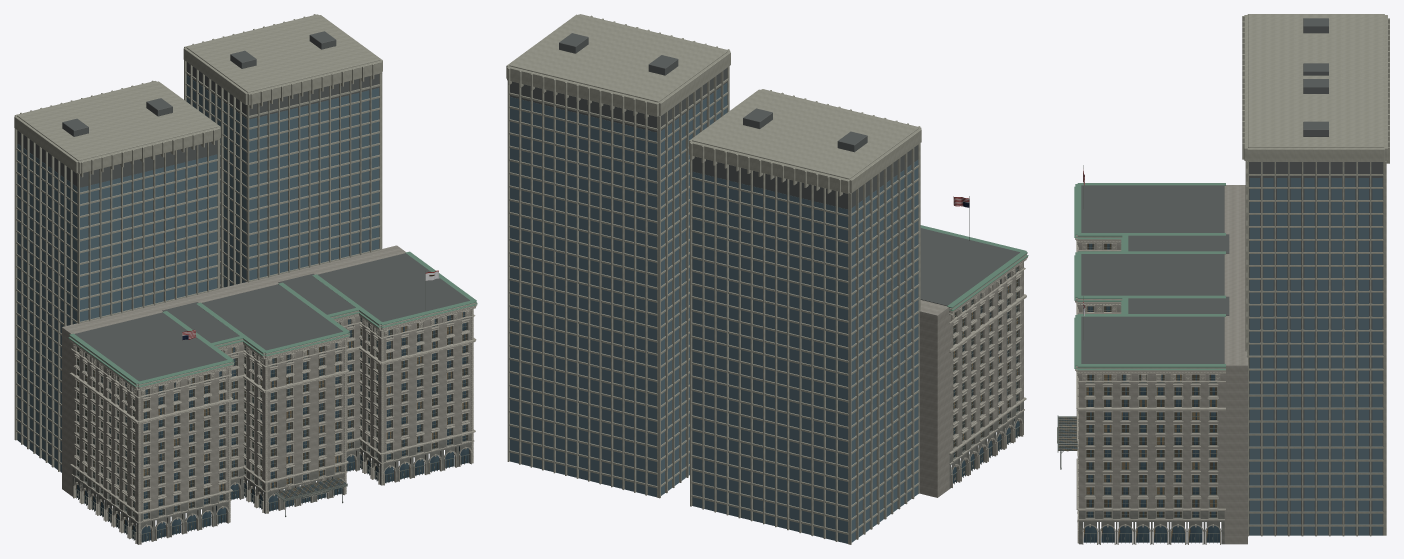
The model's file is westin.glb.
The picture shows the model from 3 angles, left to right: view 1: azimuth 30°, elevation 25°; view 2: azimuth 150°, elevation 25°; view 3: azimuth 270°, elevation 25°; orthographic projection. The views are drawn at different scales.
Visible parts, largest first — view 1: westin_towers / Westin / Pereira tower concrete, westin_towers / Westin / dark tower glazing, westin_historic / Westin / gray rusticated sandstone, westin_historic / Westin / carved limestone edges, westin_historic / Westin / roof and shadow wells, westin_historic / Westin / recessed reflected windows, westin_historic / Westin / patinated architectural bronze, westin_towers / Westin / roof and shadow wells, westin_historic / Westin / granite ground storey, westin_historic / Westin / oxidized copper crown; view 2: westin_towers / Westin / dark tower glazing, westin_towers / Westin / Pereira tower concrete, westin_towers / Westin / roof and shadow wells, westin_historic / Westin / gray rusticated sandstone, westin_historic / Westin / carved limestone edges, westin_historic / Westin / roof and shadow wells, westin_historic / Westin / patinated architectural bronze, westin_historic / Westin / recessed reflected windows, westin_historic / Westin / granite ground storey, westin_historic / Westin / oxidized copper crown; view 3: westin_towers / Westin / Pereira tower concrete, westin_towers / Westin / dark tower glazing, westin_historic / Westin / roof and shadow wells, westin_historic / Westin / gray rusticated sandstone, westin_towers / Westin / roof and shadow wells, westin_historic / Westin / carved limestone edges, westin_historic / Westin / recessed reflected windows, westin_historic / Westin / oxidized copper crown, westin_historic / Westin / patinated architectural bronze, westin_historic / Westin / granite ground storey.
Part boxes in pixels (x1,y1,x2,y2): westin_towers / Westin / Pereira tower concrete: (14,14,382,471); westin_towers / Westin / dark tower glazing: (17,75,379,472); westin_historic / Westin / gray rusticated sandstone: (62,245,473,512); westin_historic / Westin / carved limestone edges: (68,302,477,544); westin_historic / Westin / roof and shadow wells: (75,253,469,381); westin_historic / Westin / recessed reflected windows: (76,312,469,542); westin_historic / Westin / patinated architectural bronze: (75,271,469,542); westin_towers / Westin / roof and shadow wells: (17,31,379,471); westin_historic / Westin / granite ground storey: (72,433,473,544); westin_historic / Westin / oxidized copper crown: (68,251,477,387); westin_towers / Westin / dark tower glazing: (510,83,918,543); westin_towers / Westin / Pereira tower concrete: (506,14,921,544); westin_towers / Westin / roof and shadow wells: (510,33,918,541); westin_historic / Westin / gray rusticated sandstone: (919,262,1023,497); westin_historic / Westin / carved limestone edges: (949,254,1027,487); westin_historic / Westin / roof and shadow wells: (920,228,1019,305); westin_historic / Westin / patinated architectural bronze: (953,196,1020,484); westin_historic / Westin / recessed reflected windows: (952,267,1019,483); westin_historic / Westin / granite ground storey: (949,401,1023,488); westin_historic / Westin / oxidized copper crown: (920,225,1028,311); westin_towers / Westin / Pereira tower concrete: (1242,14,1389,536); westin_towers / Westin / dark tower glazing: (1249,178,1382,535); westin_historic / Westin / roof and shadow wells: (1081,185,1229,363); westin_historic / Westin / gray rusticated sandstone: (1079,185,1247,544); westin_towers / Westin / roof and shadow wells: (1249,18,1382,535); westin_historic / Westin / carved limestone edges: (1057,235,1225,544); westin_historic / Westin / recessed reflected windows: (1058,243,1219,542); westin_historic / Westin / oxidized copper crown: (1074,183,1225,370); westin_historic / Westin / patinated architectural bronze: (1057,165,1219,543); westin_historic / Westin / granite ground storey: (1078,511,1224,544).
Size of the model in its own units: 92.97 by 92.9 by 70.9.
Materials: 12 (6 with a texture image).
